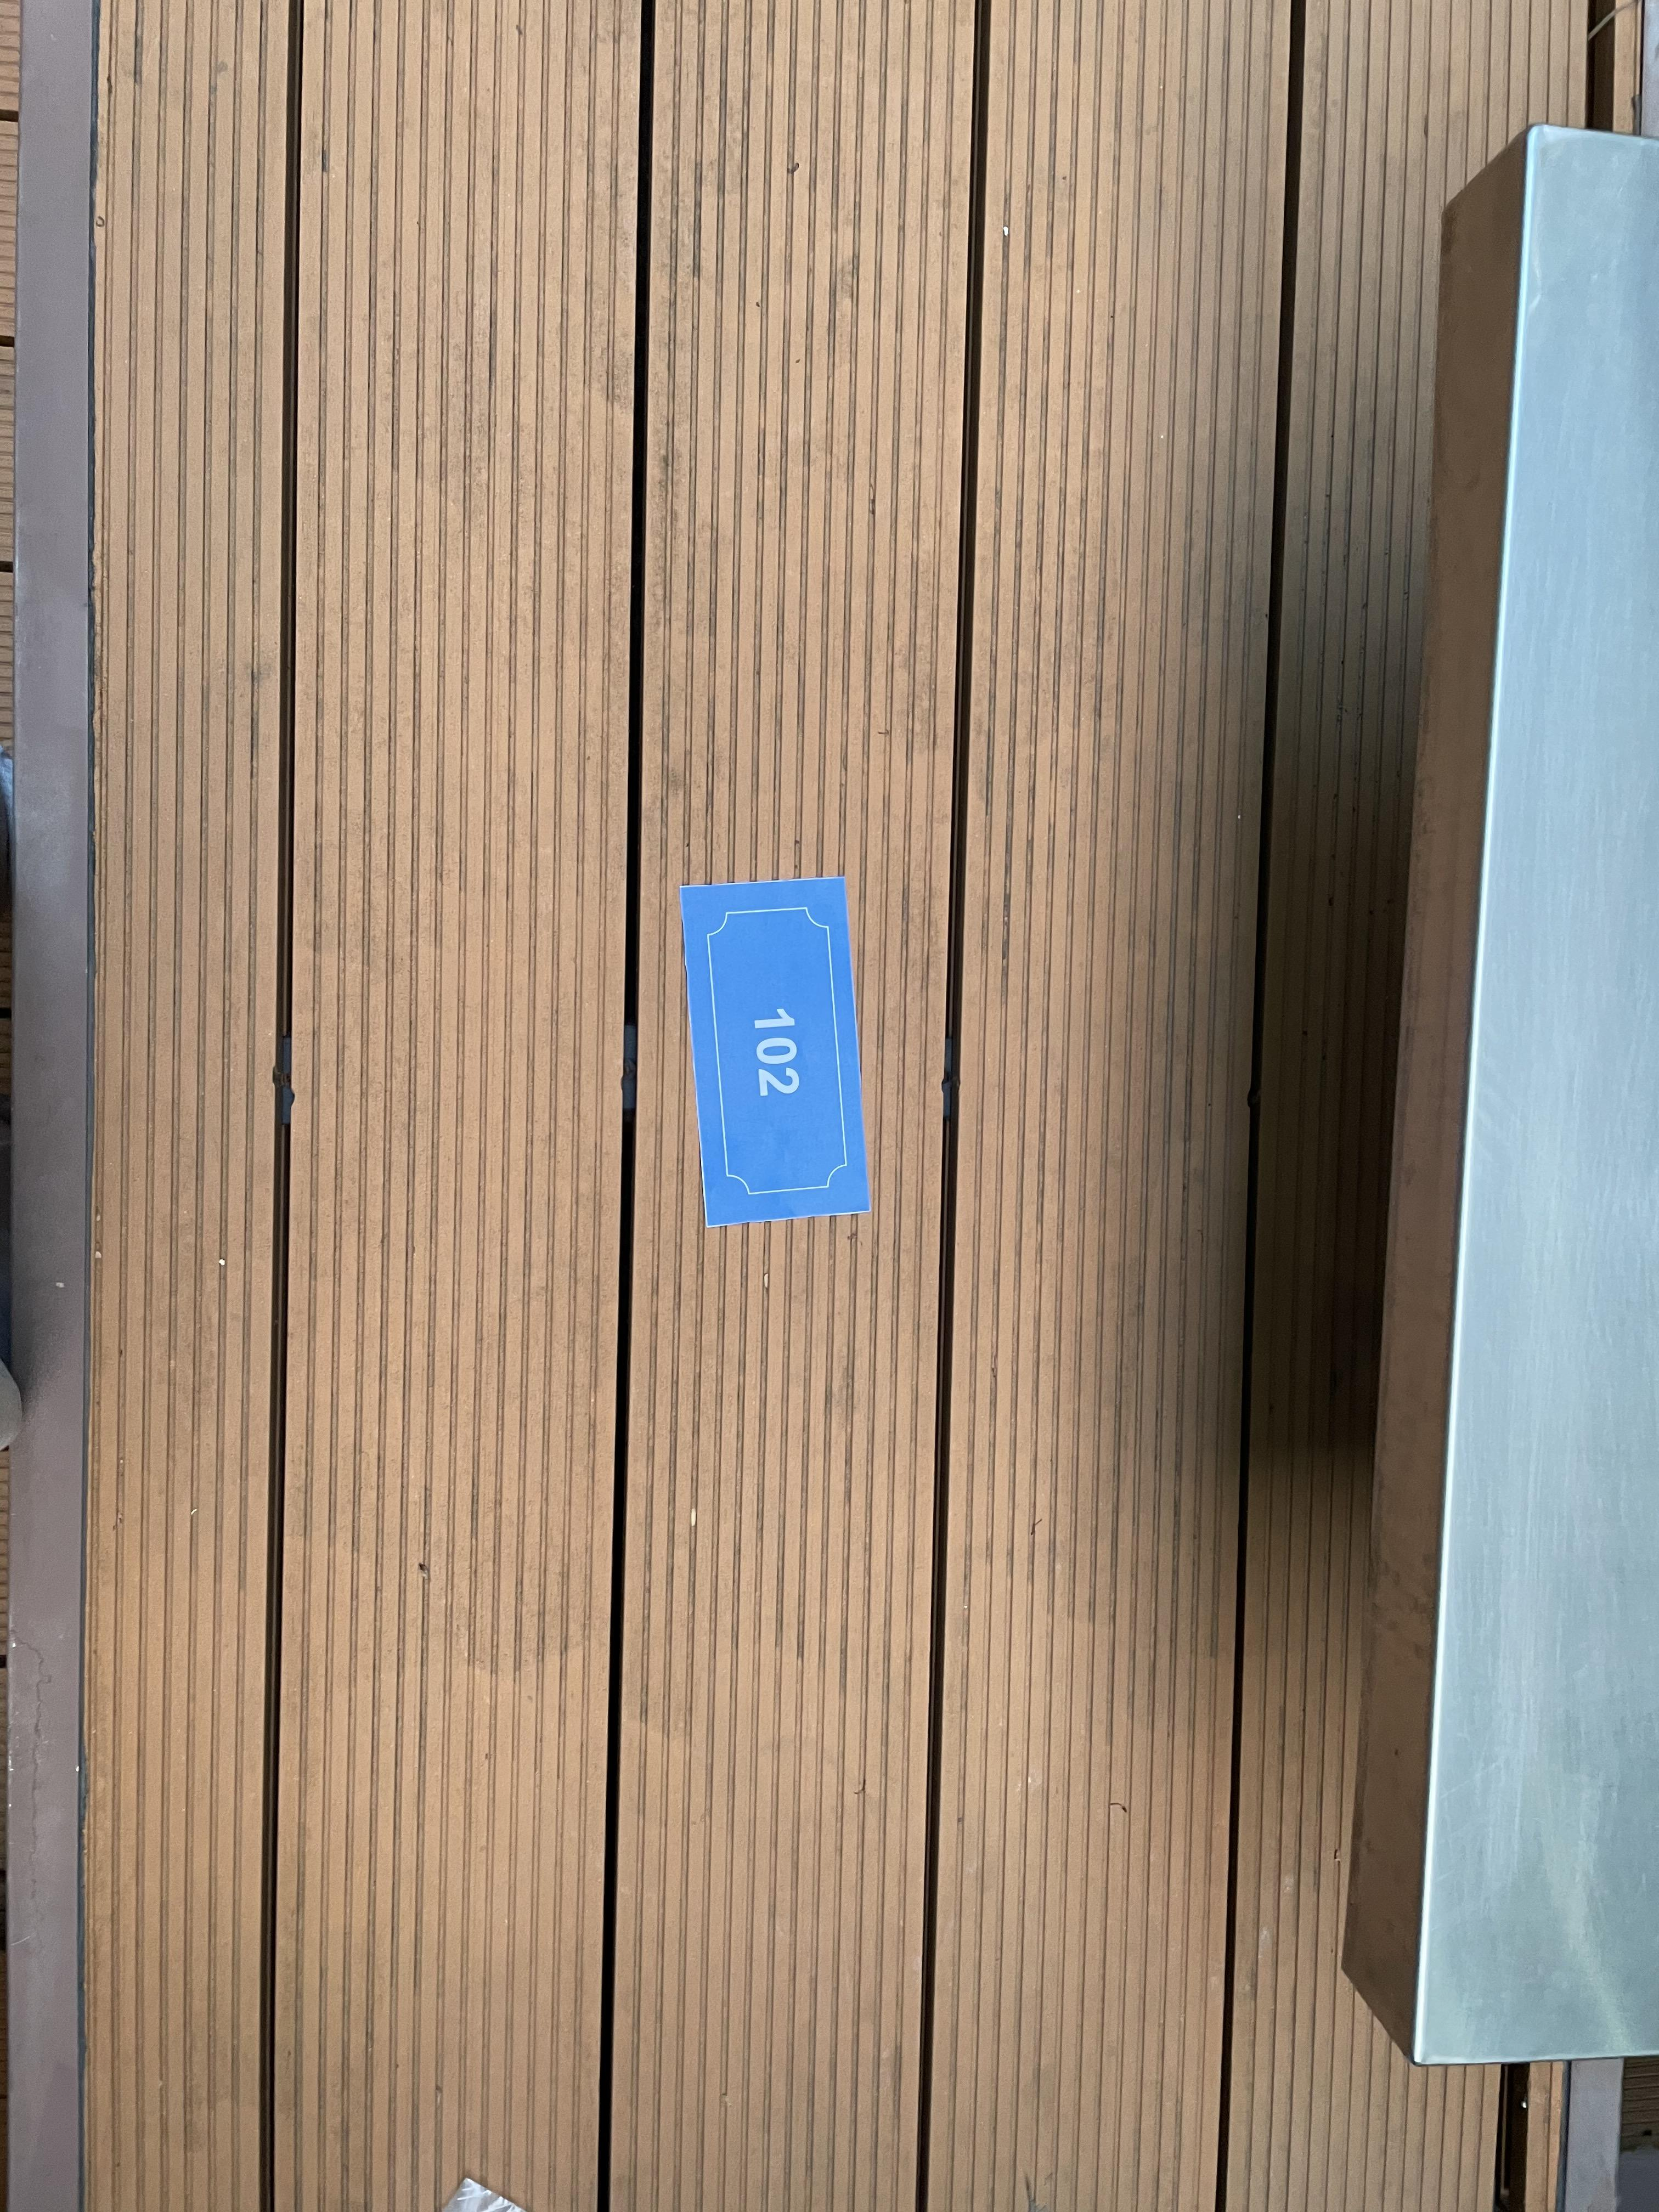Card: (659, 830, 885, 1262)
